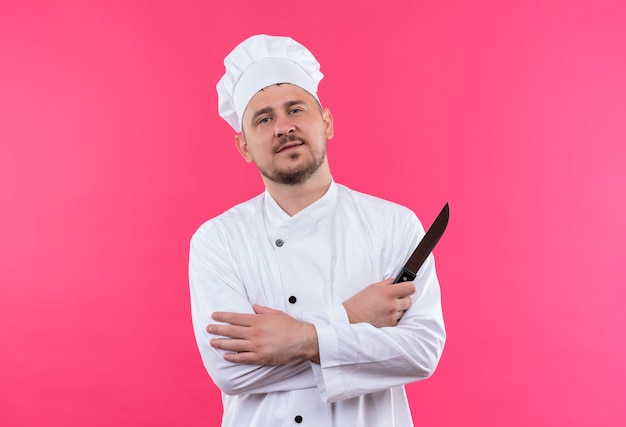knife: (400, 198, 452, 275)
